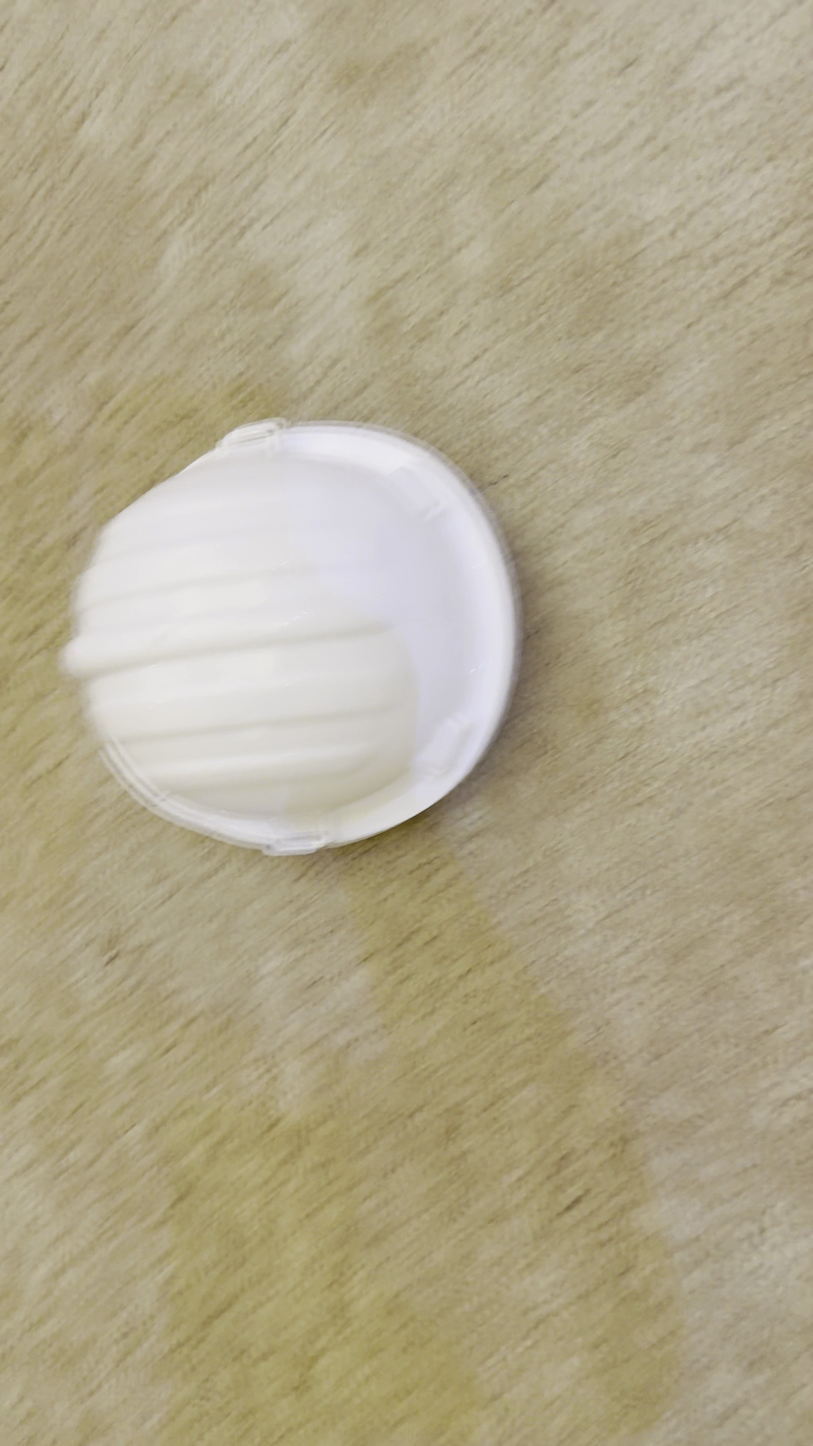safety_helmet: (57, 414, 525, 858)
